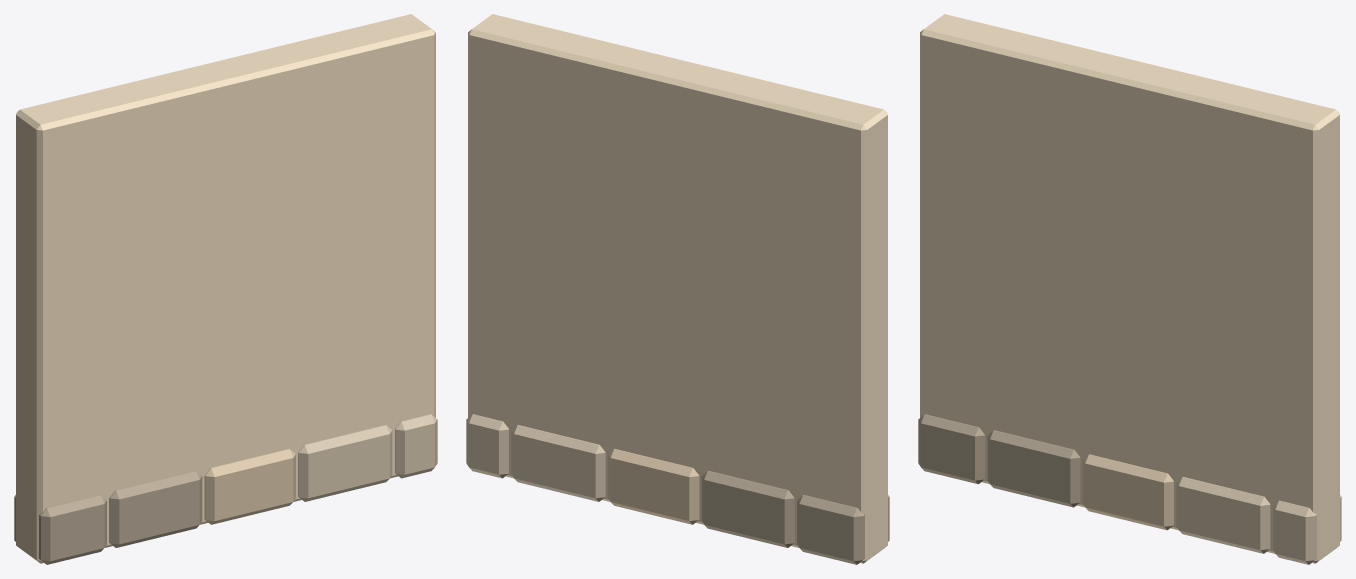
Rendered from wall_2m.glb.
The picture shows the model from 3 angles, left to right: view 1: azimuth 30°, elevation 25°; view 2: azimuth 150°, elevation 25°; view 3: azimuth 330°, elevation 25°; orthographic projection.
Parts seen in each view (by area): view 1: wall_2m; view 2: wall_2m; view 3: wall_2m.
Part boxes in pixels (left/top/right/bottom): wall_2m: left=14, top=14, right=437, bottom=564; wall_2m: left=466, top=14, right=889, bottom=564; wall_2m: left=918, top=14, right=1341, bottom=564.
Size of the model in its own units: 2 by 2.1 by 0.29.
